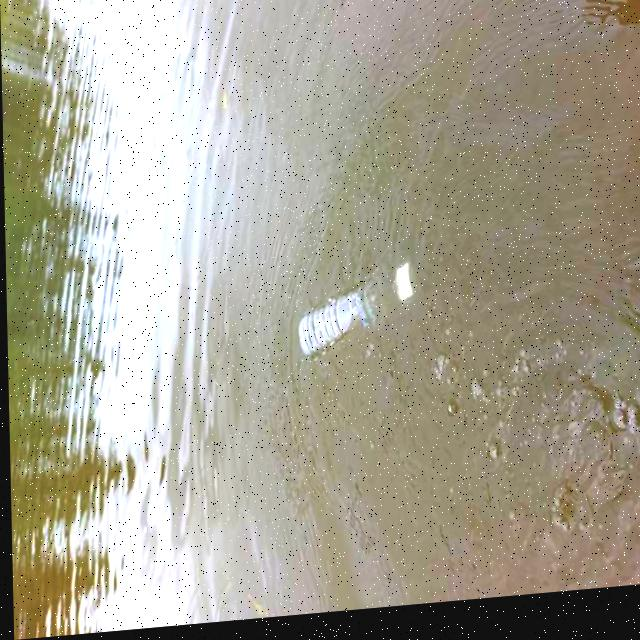waterbottle: (293, 273, 426, 361)
